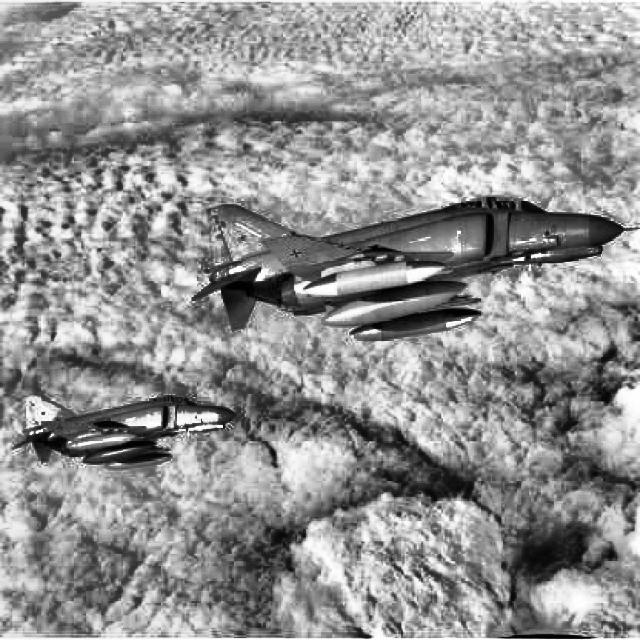F4: (192, 196, 639, 342), (11, 394, 244, 471)
